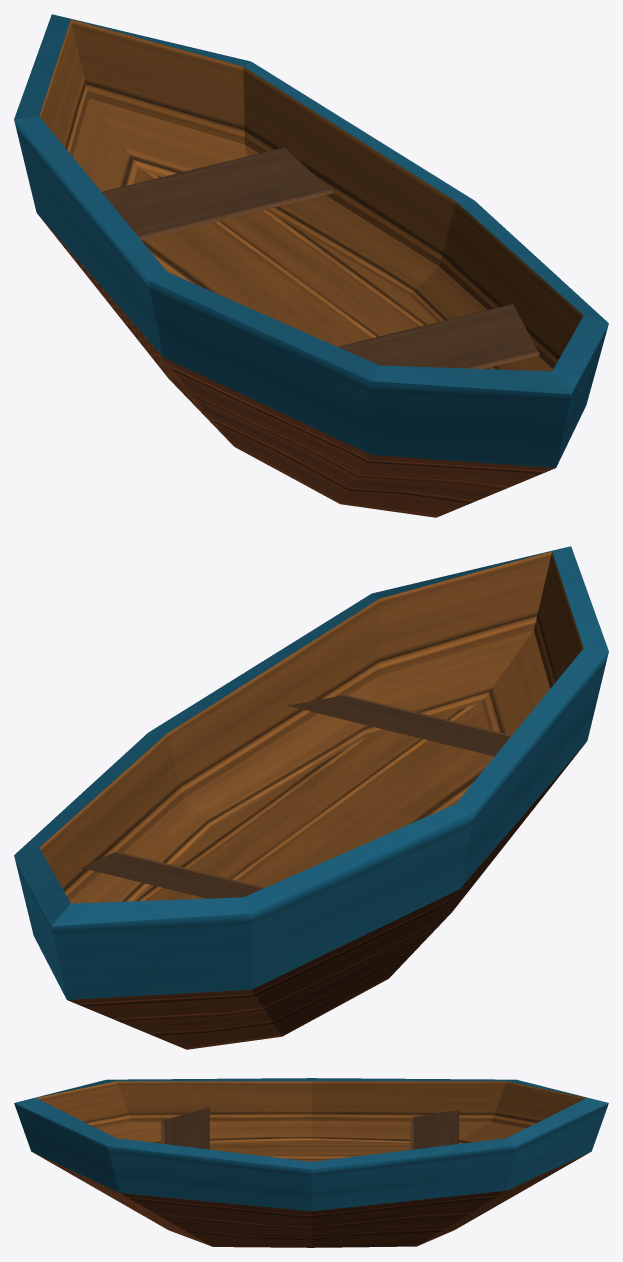
Rendered from co_Boat08.fbx.
3 renders of one model, top to bottom at view 1: azimuth 30°, elevation 25°; view 2: azimuth 150°, elevation 25°; view 3: azimuth 270°, elevation 25°, orthographic. The views are drawn at different scales.
Parts seen in each view (by area): view 1: Boat08; view 2: Boat08; view 3: Boat08.
Part boxes in pixels (x1,y1,x2,y2): Boat08: [14, 14, 608, 517]; Boat08: [14, 546, 608, 1049]; Boat08: [14, 1078, 608, 1247].
Bounding box in the file's own units: 822 × 560 × 2262.
